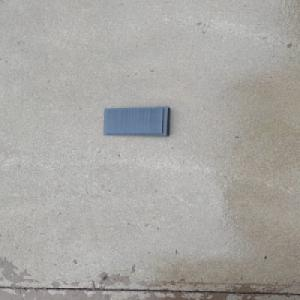PlasticPart: (102, 105, 171, 137)
